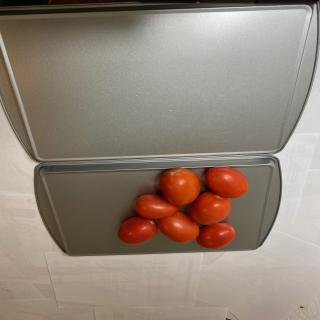Chilli: (118, 166, 248, 249)
Tomato: (159, 167, 201, 206), (190, 191, 232, 225), (205, 166, 249, 198), (157, 212, 200, 243), (118, 216, 158, 245), (135, 194, 180, 219), (196, 223, 236, 249)
